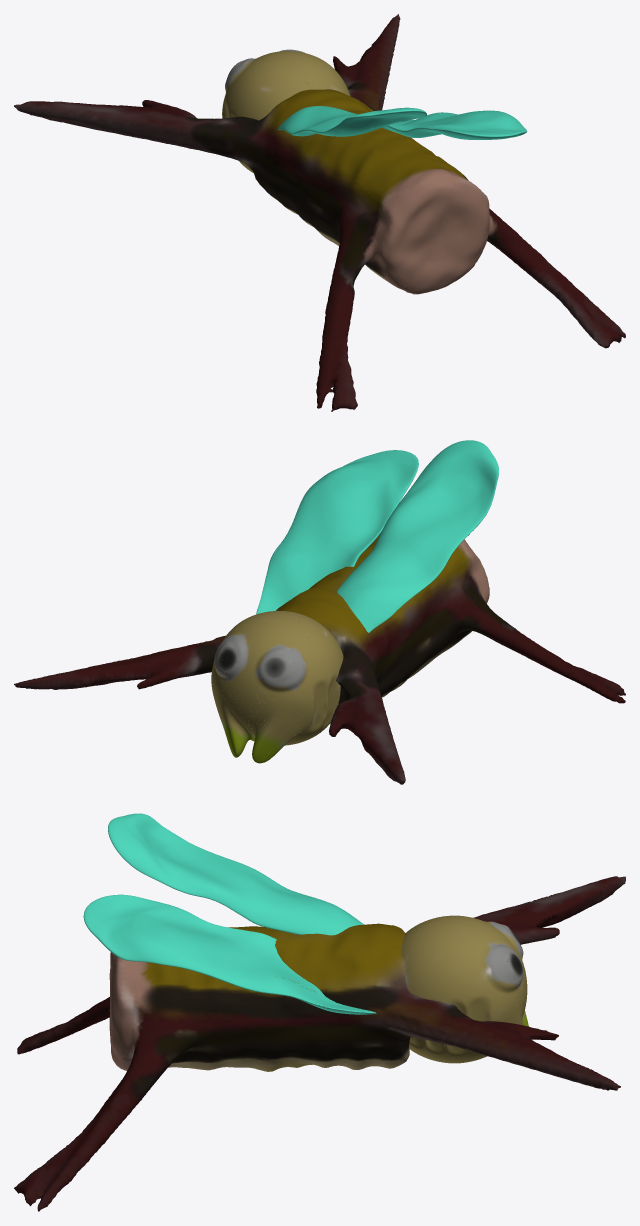
3 renders of one model, top to bottom at view 1: azimuth 30°, elevation 25°; view 2: azimuth 150°, elevation 25°; view 3: azimuth 270°, elevation 25°, orthographic. The views are drawn at different scales.
Visible parts, largest first — view 1: Geode; view 2: Geode; view 3: Geode.
Part boxes in pixels (left/top/right/bottom): Geode: left=14, top=14, right=625, bottom=411; Geode: left=14, top=440, right=625, bottom=784; Geode: left=14, top=813, right=625, bottom=1211.
Bounding box in the file's own units: 55.32 × 34.77 × 68.25.
